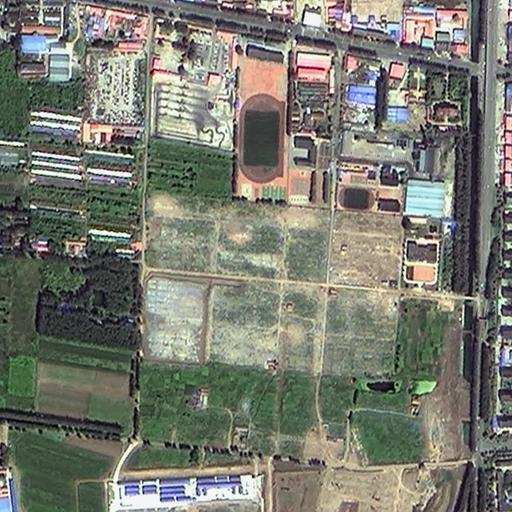school: (233, 30, 287, 200), (331, 158, 409, 216), (289, 134, 331, 205)
